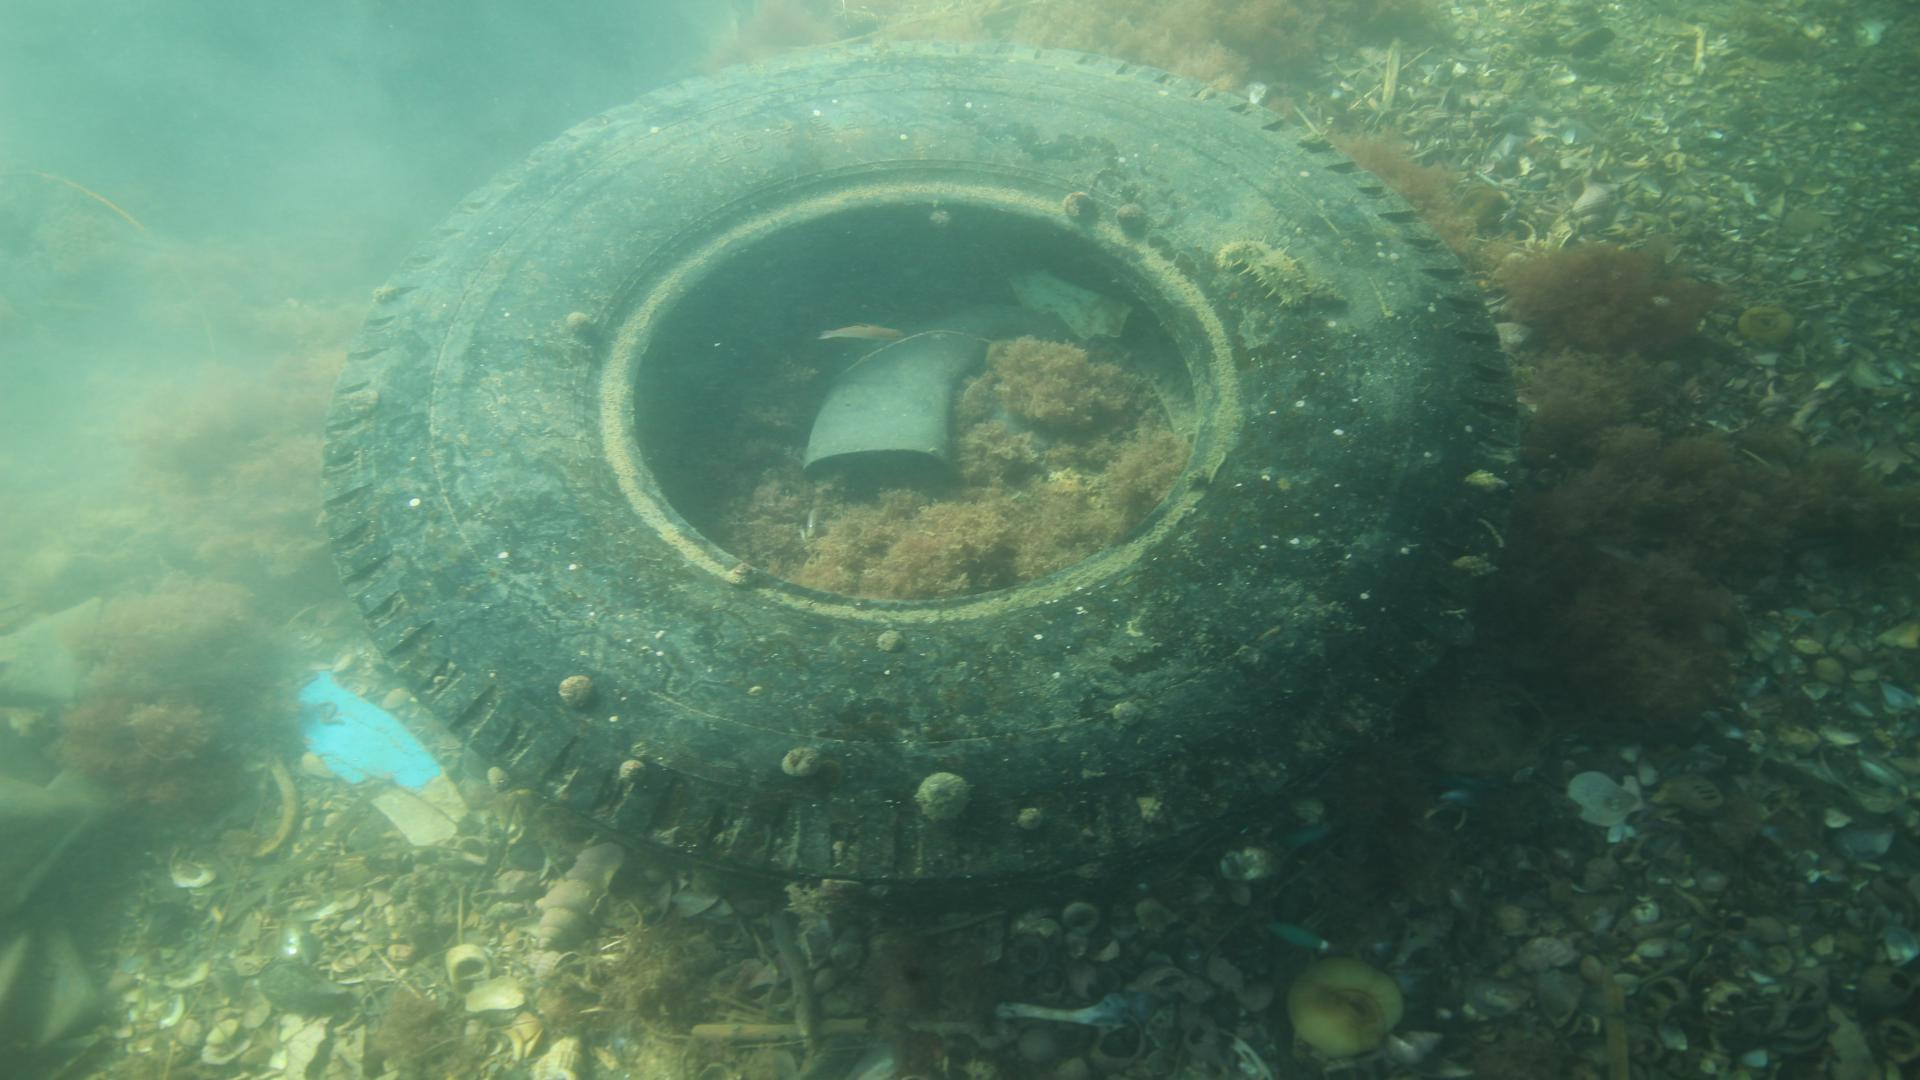tire: (320, 36, 1524, 894)
